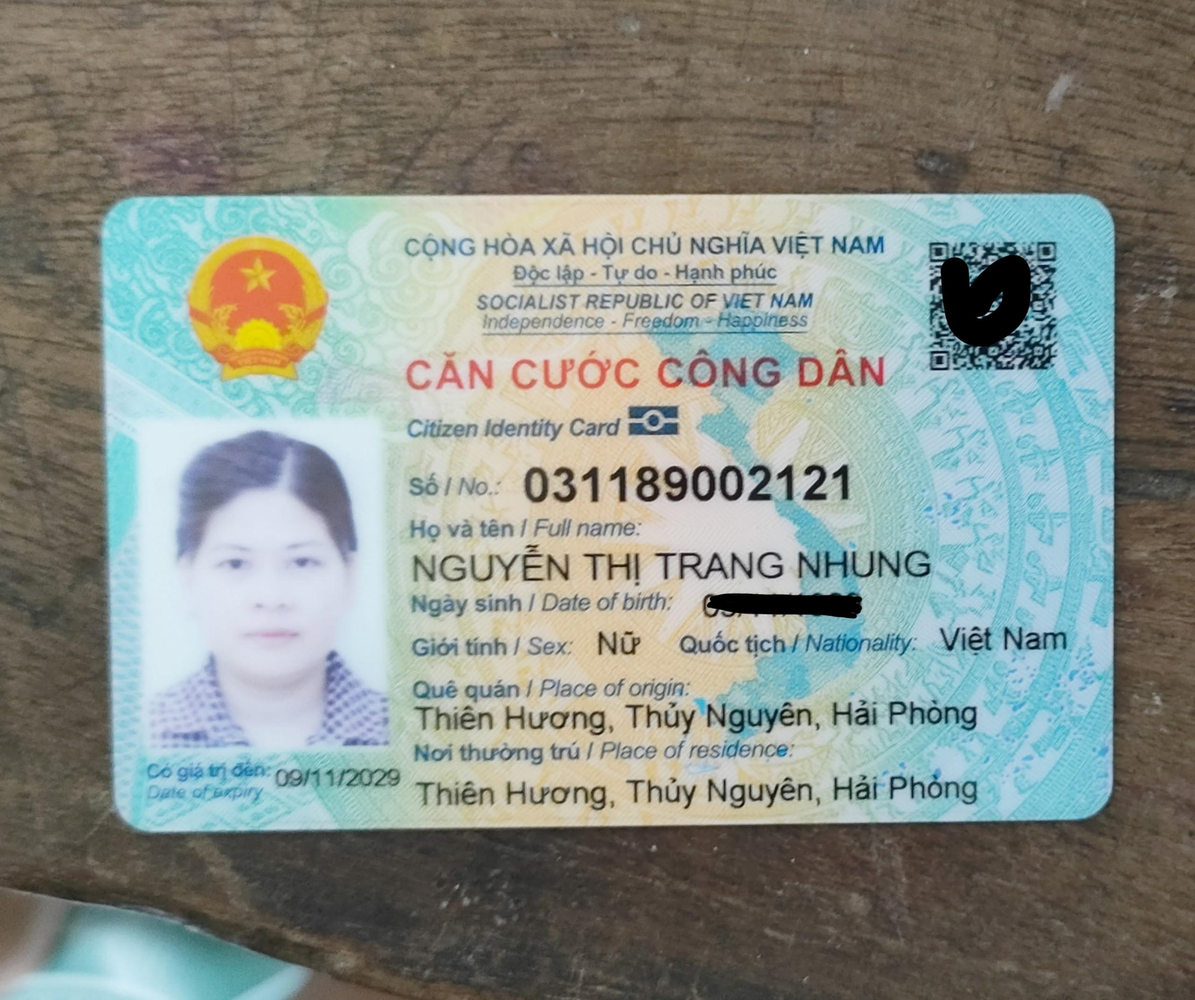bottom_left: (106, 784, 157, 843)
bottom_right: (1080, 774, 1128, 824)
image_person: (131, 407, 400, 760)
top_left: (82, 176, 147, 244)
top_right: (1073, 179, 1122, 244)
